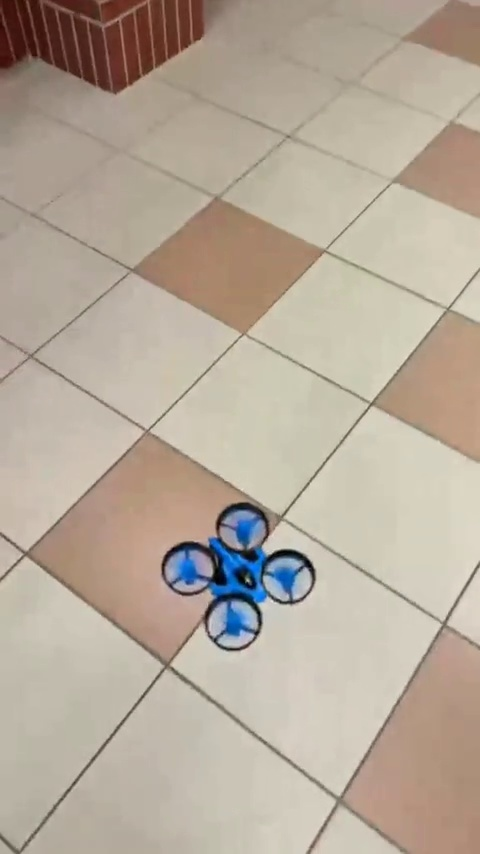drone: (161, 503, 316, 652)
